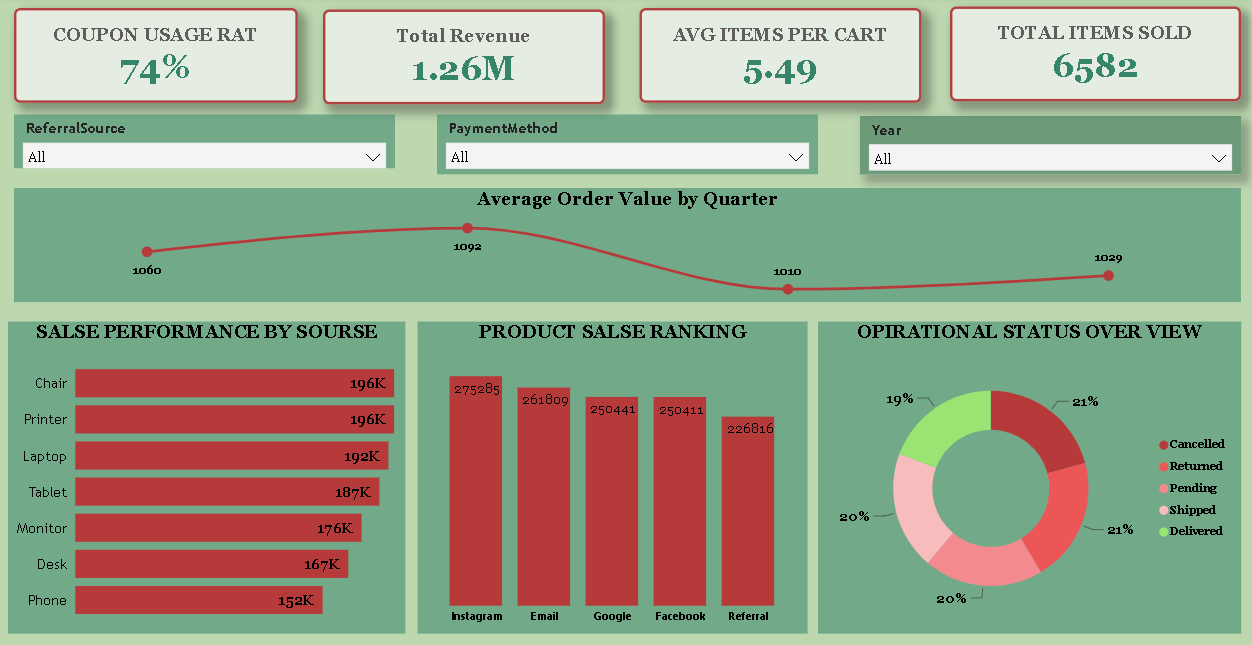

What the dashboard file says about the page in this screenshot:
{"tool":"powerbi","page":{"name":"Page 2","canvas":[1400,720],"ordinal":0},"visuals":[{"type":"cardVisual","fields":{"Data":["_measures.AVG ITEMS PER CART"]},"box":[713.8,13.2,311.4,104.3],"z":0},{"type":"cardVisual","fields":{"Data":["_measures.COUPON USAGE RAT"]},"box":[23.2,13.2,313,104.3],"z":1000},{"type":"cardVisual","fields":{"Data":["_measures.Total Revenue"]},"box":[364.4,14.9,311.4,104.3],"z":2000},{"type":"cardVisual","fields":{"Data":["_measures.TOTAL ITEMS SOLD"]},"box":[1056.6,11.6,321.3,104.3],"z":3000},{"type":"slicer","fields":{"Values":["DATA CLEANING.ReferralSource"]},"box":[23.2,130.8,420.7,59.6],"z":4000},{"type":"slicer","fields":{"Values":["DATA CLEANING.PaymentMethod"]},"box":[490.2,130.8,420.7,66.2],"z":5000},{"type":"slicer","fields":{"Values":["DATA CLEANING.Date.Variation.Date Hierarchy.Year"]},"box":[957.3,132.5,420.7,64.6],"z":6000},{"type":"clusteredColumnChart","title":"PRODUCT SALSE RANKING","fields":{"Category":["DATA CLEANING.ReferralSource"],"Y":["_measures.Total Revenue"]},"box":[468.7,359.4,430.6,344.5],"z":7000},{"type":"lineChart","fields":{"Y":["_measures.Average Order Value"],"Category":["DATA CLEANING.Date.Variation.Date Hierarchy.Quarter"]},"box":[23.2,212,1354.7,125.9],"z":8000},{"type":"clusteredBarChart","title":"SALSE PERFORMANCE BY SOURSE","fields":{"Category":["DATA CLEANING.Product"],"Y":["_measures.Total Revenue"]},"box":[16.6,359.4,438.9,344.5],"z":9000},{"type":"donutChart","title":"OPIRATIONAL STATUS OVER VIEW","fields":{"Y":["_measures.TOTAL Orders"],"Category":["DATA CLEANING.OrderStatus"]},"box":[910.9,359.4,467,344.5],"z":10000}]}

Visuals, with their boxes in screenshot pixels (x1, y1, x2, y2), scaled from the page's 1400x720 canvas onto the 1252x645 screenshot:
cardVisual - _measures.AVG ITEMS PER CART: [x1=638, y1=12, x2=917, y2=105]
cardVisual - _measures.COUPON USAGE RAT: [x1=21, y1=12, x2=301, y2=105]
cardVisual - _measures.Total Revenue: [x1=326, y1=13, x2=604, y2=107]
cardVisual - _measures.TOTAL ITEMS SOLD: [x1=945, y1=10, x2=1232, y2=104]
slicer - DATA CLEANING.ReferralSource: [x1=21, y1=117, x2=397, y2=171]
slicer - DATA CLEANING.PaymentMethod: [x1=438, y1=117, x2=815, y2=176]
slicer - DATA CLEANING.Date.Variation.Date Hierarchy.Year: [x1=856, y1=119, x2=1232, y2=177]
"PRODUCT SALSE RANKING" clusteredColumnChart: [x1=419, y1=322, x2=804, y2=631]
lineChart - _measures.Average Order Value x DATA CLEANING.Date.Variation.Date Hierarchy.Quarter: [x1=21, y1=190, x2=1232, y2=303]
"SALSE PERFORMANCE BY SOURSE" clusteredBarChart: [x1=15, y1=322, x2=407, y2=631]
"OPIRATIONAL STATUS OVER VIEW" donutChart: [x1=815, y1=322, x2=1232, y2=631]
